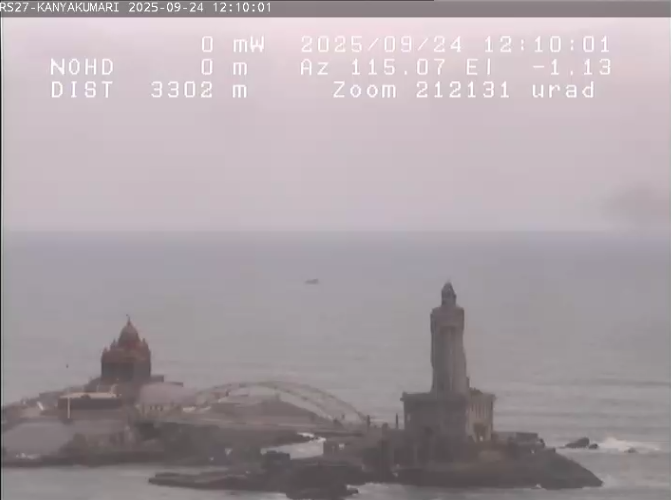FISHING_BOAT: (299, 271, 335, 292)
